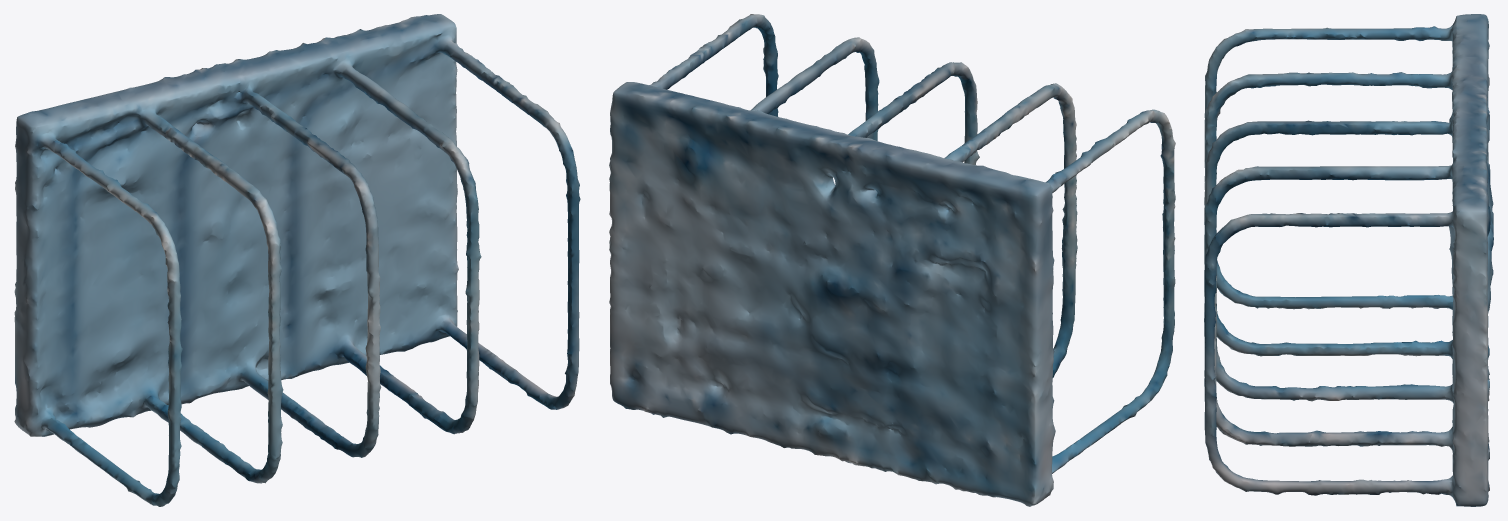
File: sorter.glb
3 renders of one model, left to right at view 1: azimuth 30°, elevation 25°; view 2: azimuth 150°, elevation 25°; view 3: azimuth 270°, elevation 25°, orthographic. The views are drawn at different scales.
Size of the model in its own units: 0.9952 by 0.7088 by 0.6081.
